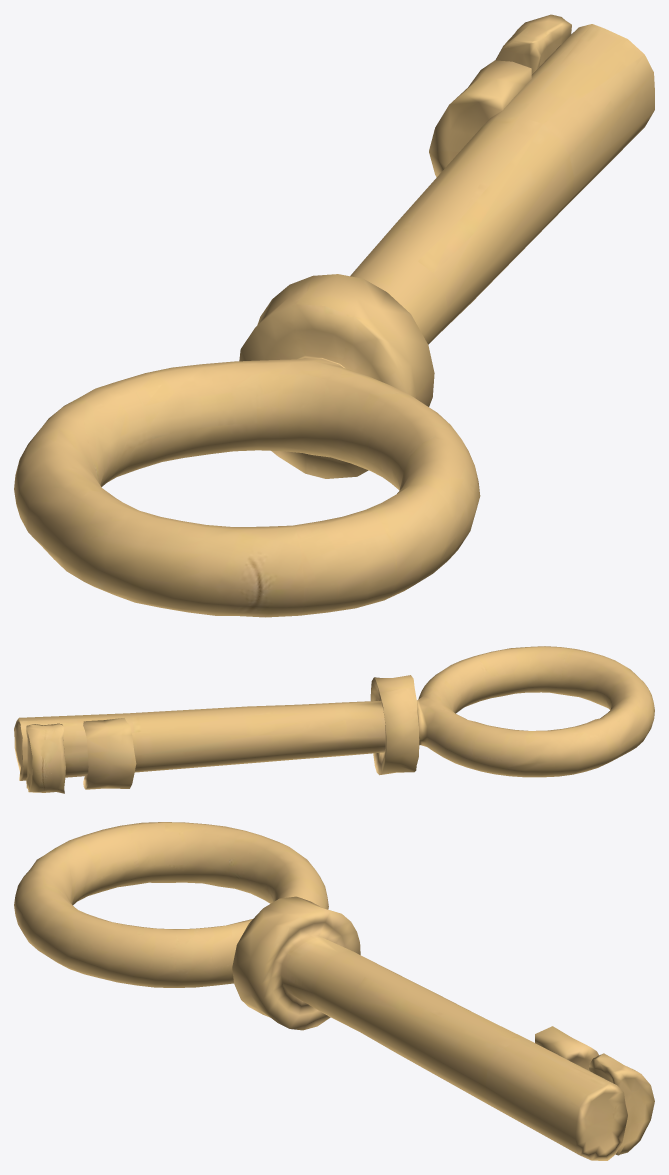
The model's file is dungeon_key_gold.glb.
3 views of the same model, one above another, from view 1: azimuth 30°, elevation 25°; view 2: azimuth 150°, elevation 25°; view 3: azimuth 270°, elevation 25° (orthographic). The views are drawn at different scales.
Visible parts, largest first — view 1: dungeon_key_gold; view 2: dungeon_key_gold; view 3: dungeon_key_gold.
Boxes of the visible parts, x1=… form: dungeon_key_gold: x1=14, y1=14, x2=654, y2=617; dungeon_key_gold: x1=14, y1=646, x2=654, y2=793; dungeon_key_gold: x1=14, y1=822, x2=654, y2=1160.
Size of the model in its own units: 0.35 by 0.0641 by 0.3254.
1 material, 1 textured.
